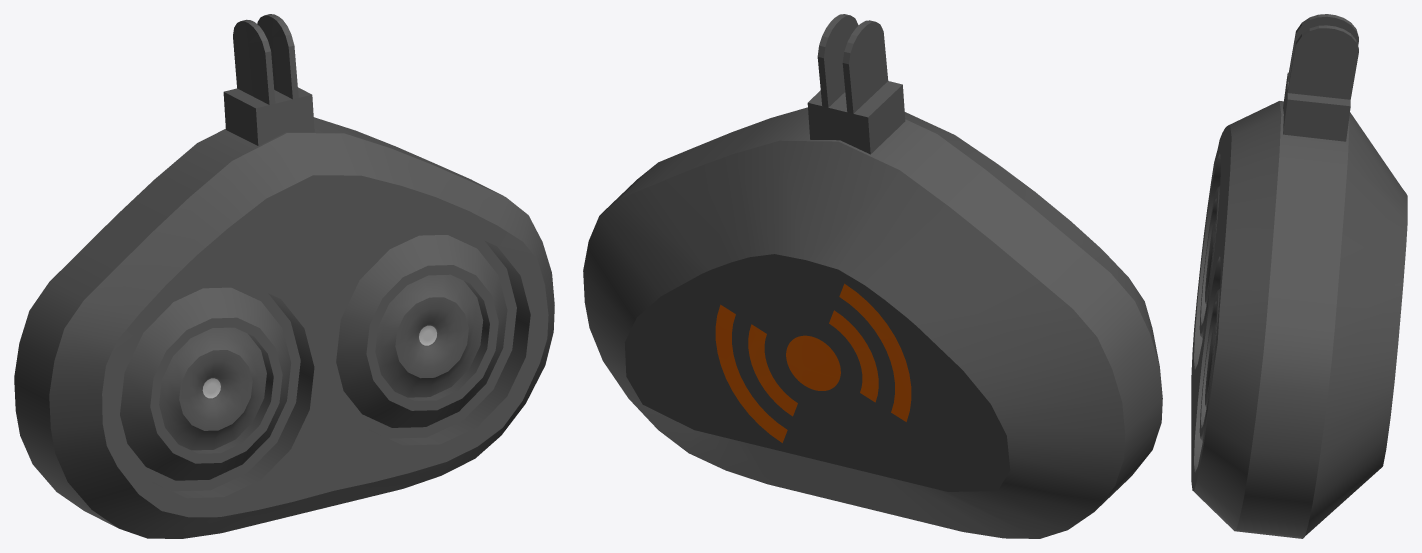
The model's file is loud-bicycle-mini-horn.glb.
The picture shows the model from 3 angles, left to right: view 1: azimuth 30°, elevation 25°; view 2: azimuth 150°, elevation 25°; view 3: azimuth 270°, elevation 25°; orthographic projection. The views are drawn at different scales.
Bounding box in the file's own units: 0.1809 × 0.159 × 0.0691.
1 material, 1 textured.
